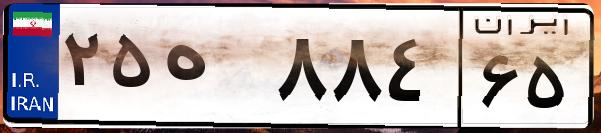2: (57, 26, 110, 100)
4: (385, 28, 445, 110)
5: (525, 38, 570, 115), (110, 28, 158, 98)
6: (475, 38, 525, 113)
8: (270, 28, 330, 110), (330, 28, 385, 110)
ه: (158, 20, 270, 120)
